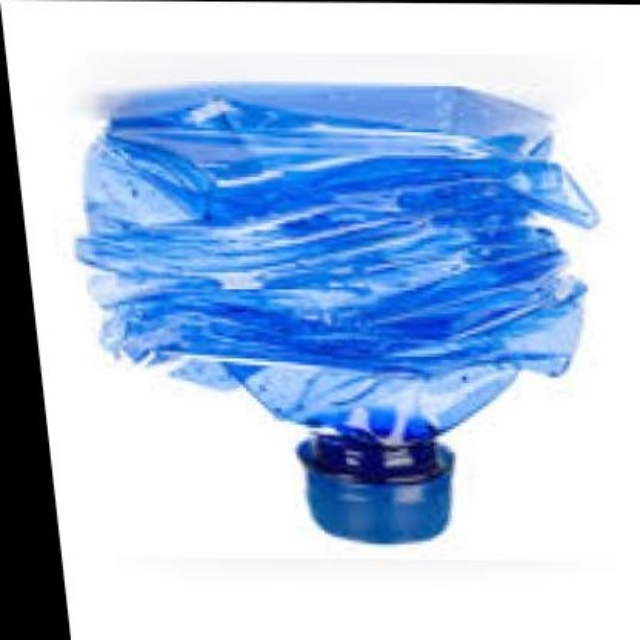trash: (77, 83, 595, 542)
